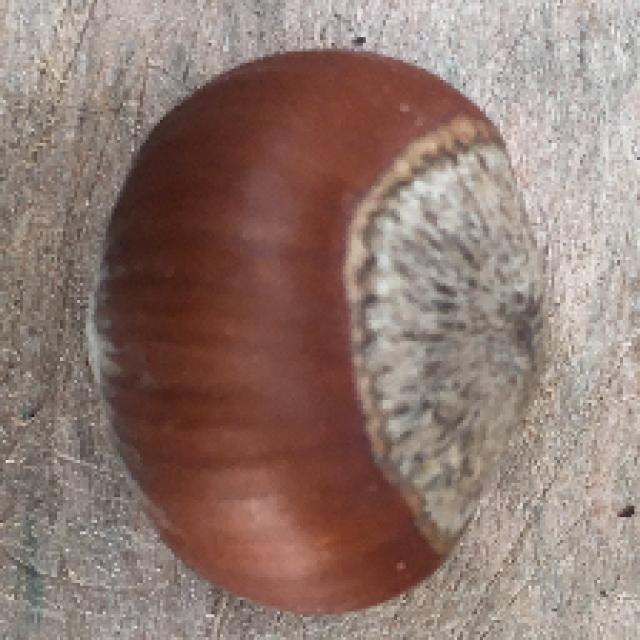qualityHazelnut: (92, 44, 542, 616)
